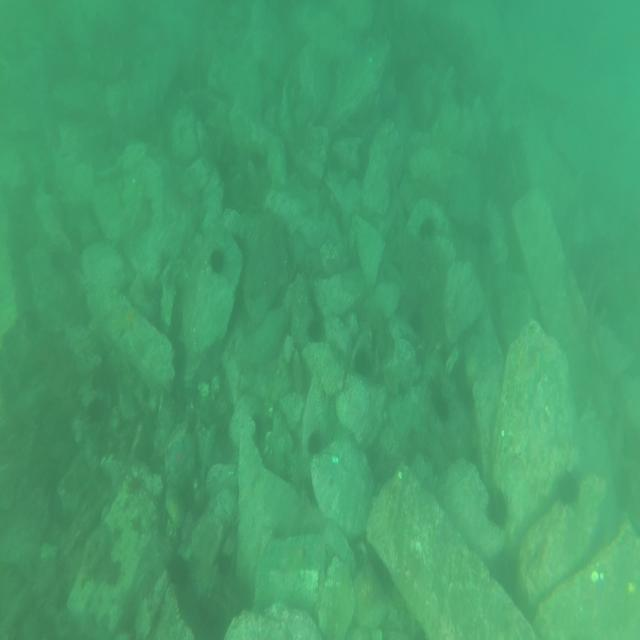echinus: (482, 484, 512, 533), (166, 552, 192, 593), (558, 473, 582, 513), (416, 210, 436, 246), (303, 426, 324, 458), (350, 348, 370, 380), (206, 243, 224, 277), (429, 392, 447, 419), (304, 312, 321, 340)
